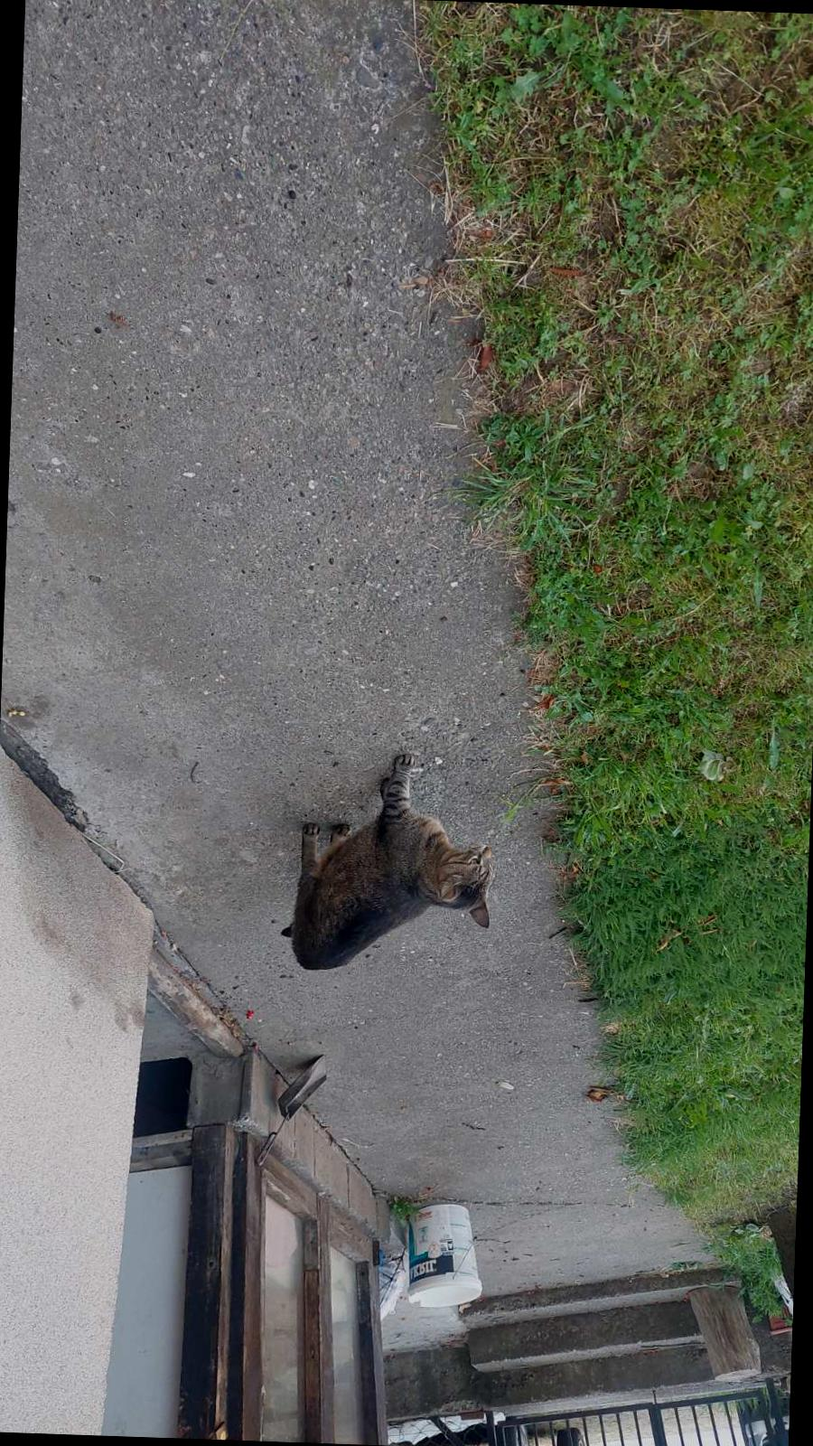macka: (277, 748, 498, 977)
